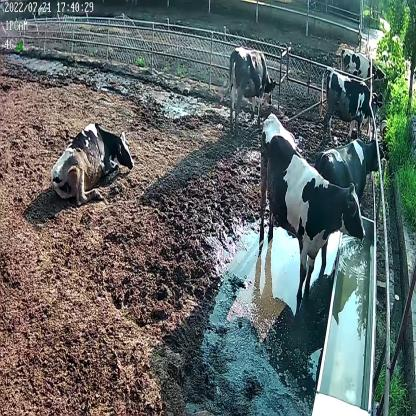cow: (258, 110, 366, 300), (49, 118, 135, 207), (320, 64, 378, 144), (316, 140, 384, 207), (222, 50, 278, 130), (339, 46, 387, 88)
